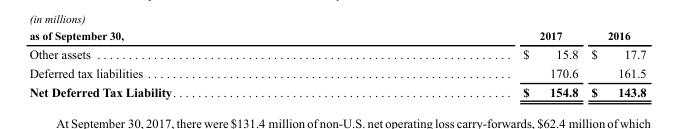table: (28, 28, 645, 98)
table column: (28, 28, 348, 98), (348, 28, 583, 98), (583, 28, 645, 98)
table column header: (28, 28, 645, 43)
table row: (28, 43, 645, 62), (28, 62, 645, 81), (28, 81, 645, 98), (28, 28, 645, 43)
